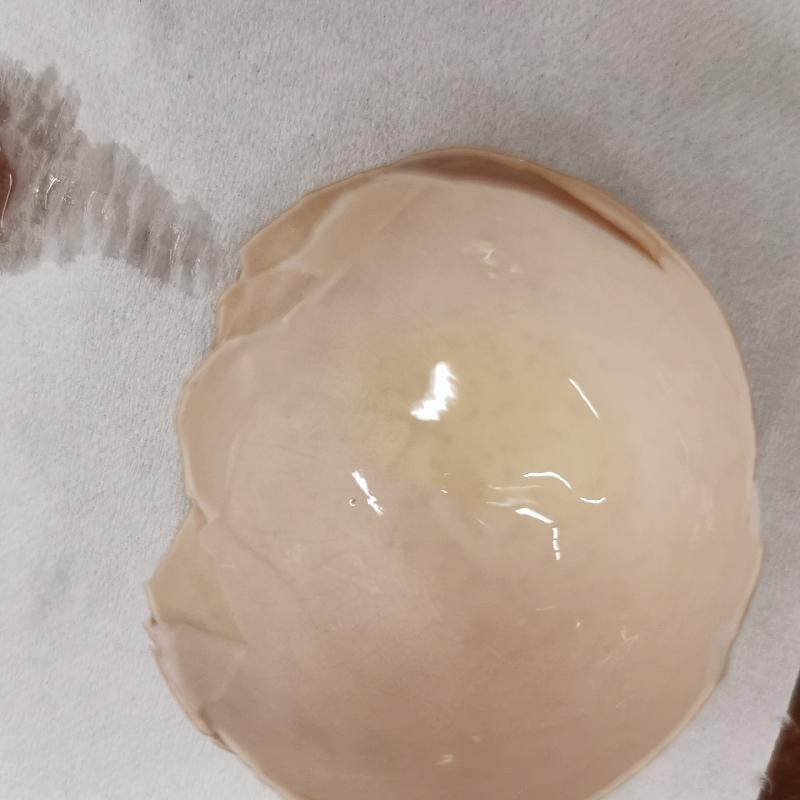eggshell: (144, 145, 772, 800)
